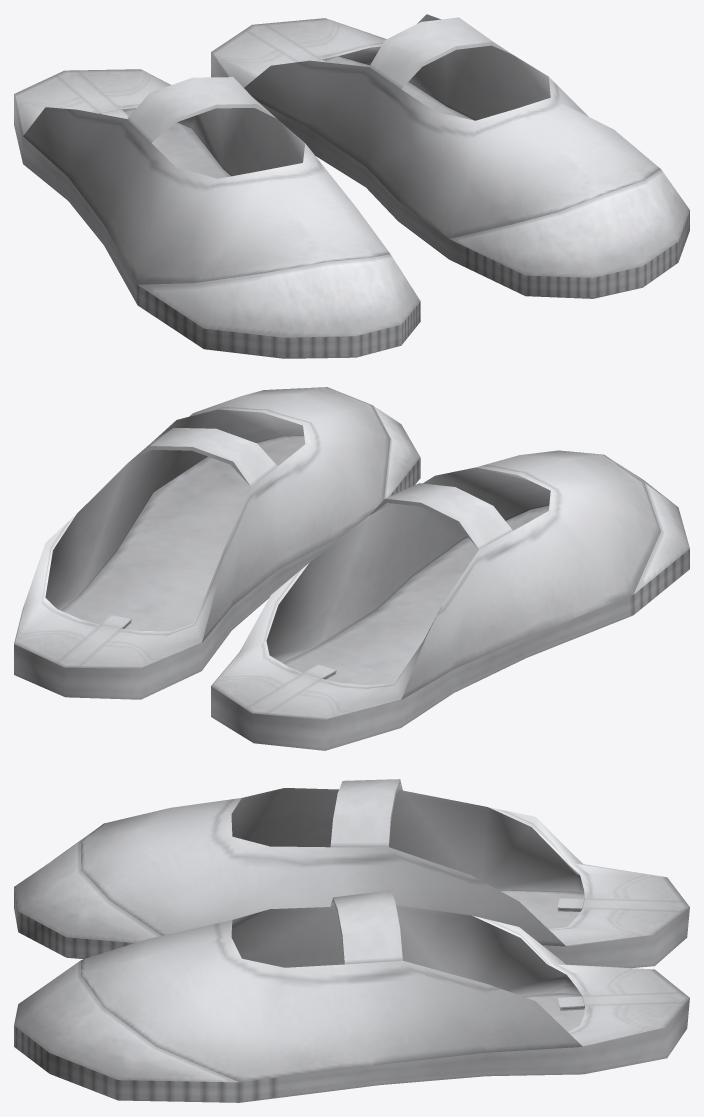
File: set_indoorshoes_06_b.fbx
3 renders of one model, top to bottom at view 1: azimuth 30°, elevation 25°; view 2: azimuth 150°, elevation 25°; view 3: azimuth 270°, elevation 25°, orthographic.
Parts seen in each view (by area): view 1: indoorshoes_06_b_L, indoorshoes_06_b_R; view 2: indoorshoes_06_b_R, indoorshoes_06_b_L; view 3: indoorshoes_06_b_L, indoorshoes_06_b_R.
Boxes of the visible parts, x1,y1,x2,y2 form: indoorshoes_06_b_L: (211, 14, 689, 298); indoorshoes_06_b_R: (14, 69, 420, 358); indoorshoes_06_b_R: (211, 450, 689, 750); indoorshoes_06_b_L: (14, 387, 420, 699); indoorshoes_06_b_L: (14, 890, 689, 1102); indoorshoes_06_b_R: (14, 779, 689, 967).
Size of the model in its own units: 21.31 by 5.65 by 25.41.
